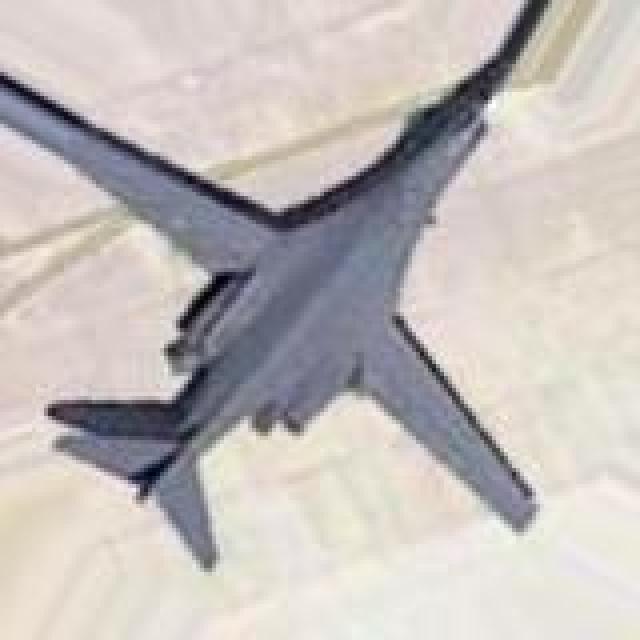B-1_TopDown: (26, 44, 552, 575)
